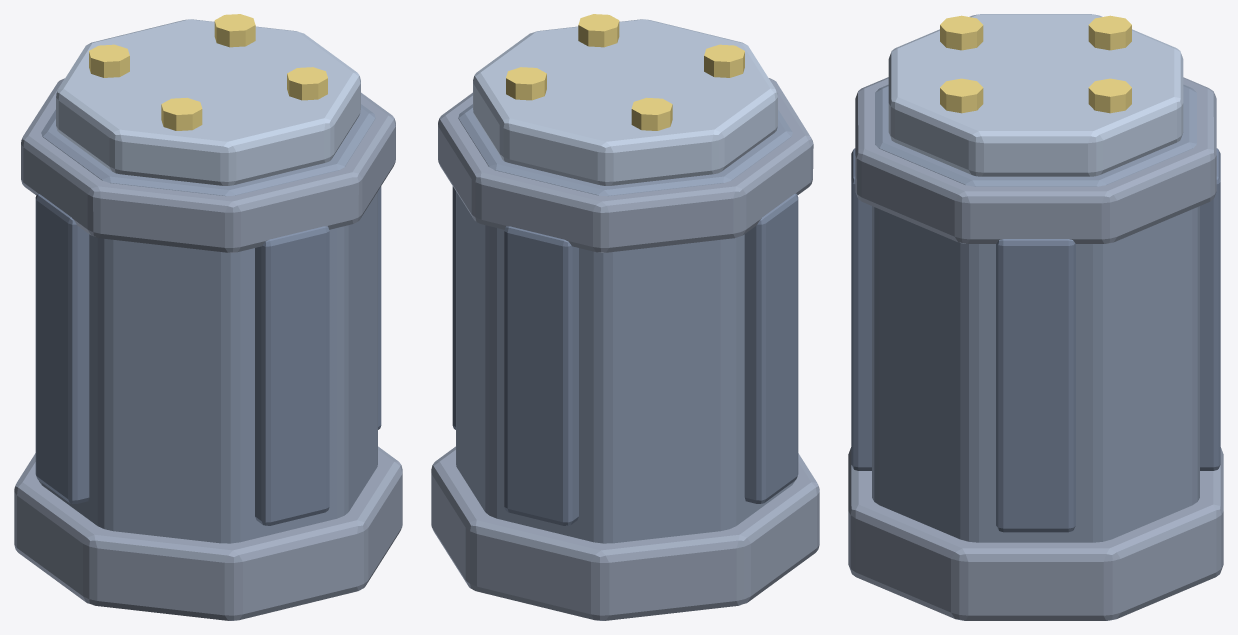
File: pillar.glb
3 renders of one model, left to right at view 1: azimuth 30°, elevation 25°; view 2: azimuth 150°, elevation 25°; view 3: azimuth 270°, elevation 25°, orthographic. The views are drawn at different scales.
Parts seen in each view (by area): view 1: Cylinder.001, Cylinder.003, Cylinder, Cylinder.002, Cube.003, Cube.002, Cylinder.006, Cylinder.004, Cylinder.005, Cylinder.007, Cube; view 2: Cylinder.001, Cylinder.003, Cylinder, Cylinder.002, Cube.001, Cube.002, Cylinder.005, Cylinder.007, Cylinder.006, Cylinder.004, Cube; view 3: Cylinder.001, Cylinder.003, Cylinder, Cylinder.002, Cube, Cube.001, Cube.003, Cylinder.004, Cylinder.007, Cylinder.005, Cylinder.006.
Boxes of the visible parts, bbox=[...] form: Cylinder.001: bbox=[39, 104, 377, 543]; Cylinder.003: bbox=[56, 19, 360, 185]; Cylinder: bbox=[14, 446, 402, 620]; Cylinder.002: bbox=[21, 78, 395, 252]; Cube.003: bbox=[255, 226, 329, 525]; Cube.002: bbox=[35, 193, 89, 503]; Cylinder.006: bbox=[161, 97, 202, 130]; Cylinder.004: bbox=[214, 14, 255, 47]; Cylinder.005: bbox=[89, 44, 129, 77]; Cylinder.007: bbox=[287, 67, 327, 100]; Cube: bbox=[378, 186, 381, 429]; Cylinder.001: bbox=[456, 104, 794, 543]; Cylinder.003: bbox=[473, 19, 777, 185]; Cylinder: bbox=[431, 446, 819, 620]; Cylinder.002: bbox=[438, 78, 813, 252]; Cube.001: bbox=[504, 226, 578, 525]; Cube.002: bbox=[744, 193, 798, 503]; Cylinder.005: bbox=[631, 97, 672, 130]; Cylinder.007: bbox=[578, 14, 619, 47]; Cylinder.006: bbox=[704, 44, 744, 77]; Cylinder.004: bbox=[506, 67, 546, 100]; Cube: bbox=[452, 186, 455, 429]; Cylinder.001: bbox=[872, 84, 1199, 542]; Cylinder.003: bbox=[888, 14, 1183, 176]; Cylinder: bbox=[848, 447, 1223, 620]; Cylinder.002: bbox=[855, 77, 1216, 243]; Cube: bbox=[996, 239, 1075, 532]; Cube.001: bbox=[1200, 148, 1220, 470]; Cube.003: bbox=[851, 148, 871, 470]; Cylinder.004: bbox=[1088, 78, 1131, 113]; Cylinder.007: bbox=[940, 78, 983, 113]; Cylinder.005: bbox=[1088, 15, 1131, 50]; Cylinder.006: bbox=[940, 15, 983, 50].
Size of the model in its own units: 1.03 by 1.49 by 1.03.
